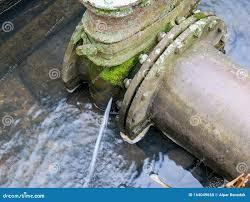leak: (76, 91, 121, 185)
